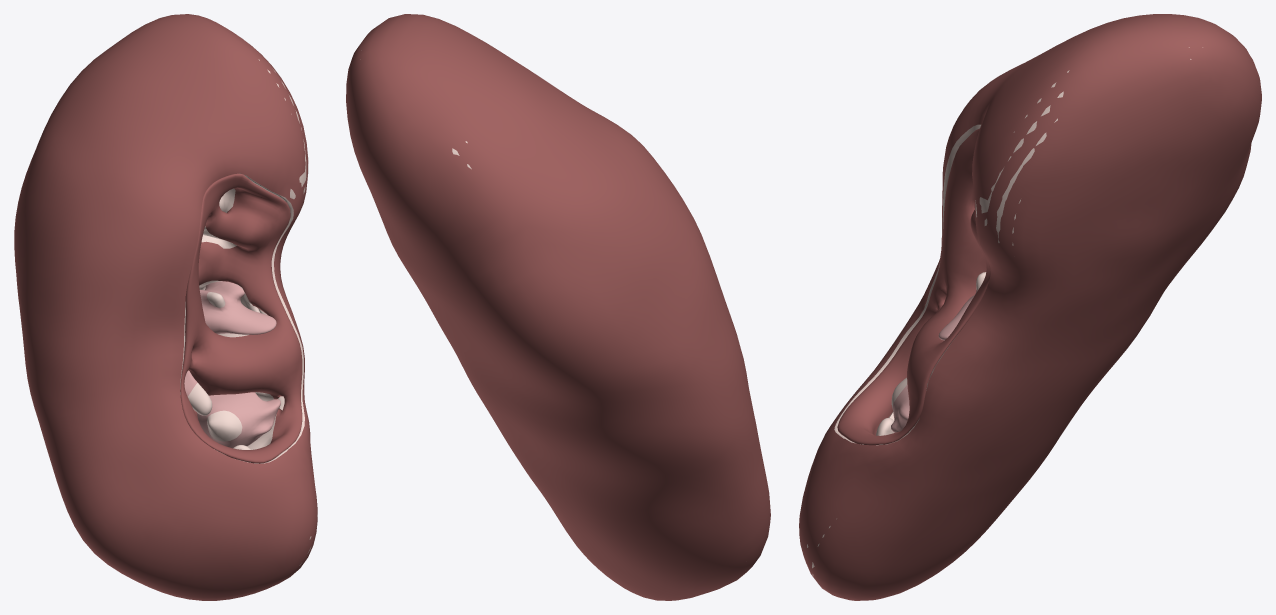
File: hra-kidney-right-male-v1.glb
The picture shows the model from 3 angles, left to right: view 1: azimuth 30°, elevation 25°; view 2: azimuth 150°, elevation 25°; view 3: azimuth 270°, elevation 25°; orthographic projection. The views are drawn at different scales.
Visible parts, largest first — view 1: VH_M_kidney_capsule_R, VH_M_hilum_of_kidney_R, VH_M_renal_pyramid_f, VH_M_renal_pyramid_h, VH_M_outer_cortex_of_kidney_R, VH_M_renal_column_R, VH_M_renal_papilla_R_h, VH_M_renal_papilla_R_g; view 2: VH_M_kidney_capsule_R; view 3: VH_M_kidney_capsule_R, VH_M_hilum_of_kidney_R, VH_M_outer_cortex_of_kidney_R, VH_M_renal_pyramid_h.
Part boxes in pixels (x1,y1,x2,y2): VH_M_kidney_capsule_R: [14, 14, 317, 600]; VH_M_hilum_of_kidney_R: [180, 173, 302, 463]; VH_M_renal_pyramid_f: [199, 281, 276, 334]; VH_M_renal_pyramid_h: [197, 392, 280, 448]; VH_M_outer_cortex_of_kidney_R: [89, 59, 317, 565]; VH_M_renal_column_R: [199, 188, 276, 449]; VH_M_renal_papilla_R_h: [207, 410, 242, 441]; VH_M_renal_papilla_R_g: [188, 382, 212, 415]; VH_M_kidney_capsule_R: [346, 14, 770, 600]; VH_M_kidney_capsule_R: [799, 14, 1261, 600]; VH_M_hilum_of_kidney_R: [837, 128, 990, 445]; VH_M_outer_cortex_of_kidney_R: [807, 47, 1202, 576]; VH_M_renal_pyramid_h: [891, 384, 909, 432].
Size of the model in its own units: 0.0655 by 0.1125 by 0.0764.
